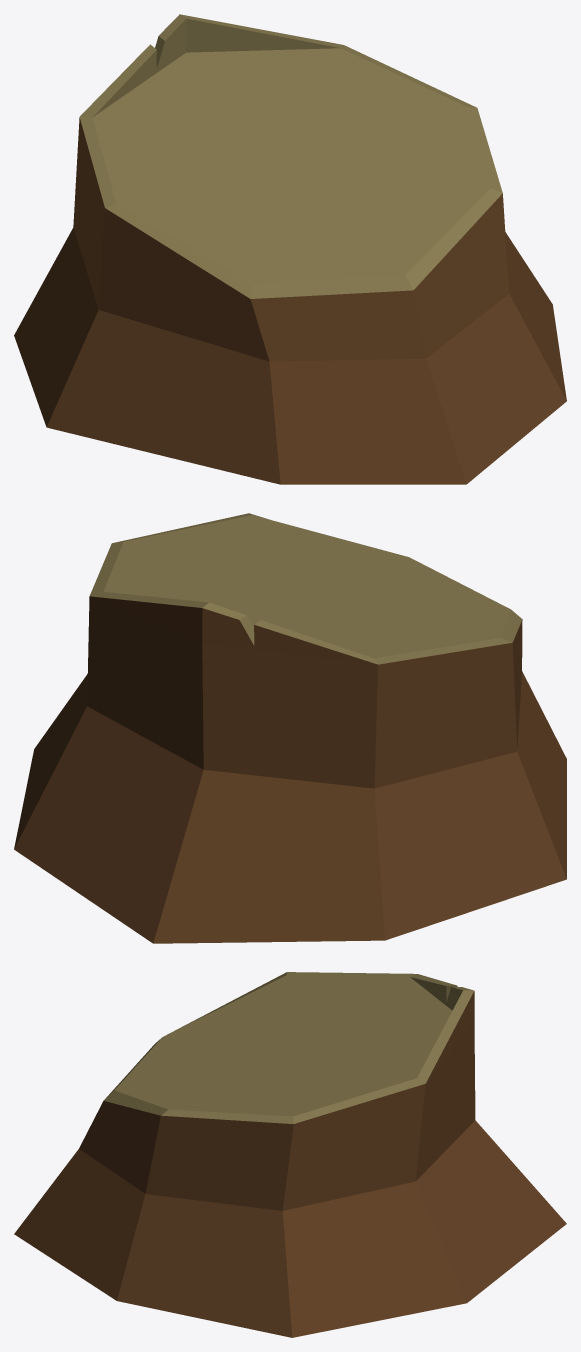
File: Stump.fbx
3 views of the same model, one above another, from view 1: azimuth 30°, elevation 25°; view 2: azimuth 150°, elevation 25°; view 3: azimuth 270°, elevation 25° (orthographic). The views are drawn at different scales.
Visible parts, largest first — view 1: Cylinder; view 2: Cylinder; view 3: Cylinder.
Boxes of the visible parts, x1,y1,x2,y2 form: Cylinder: [14, 14, 566, 484]; Cylinder: [14, 513, 566, 943]; Cylinder: [14, 972, 566, 1337].
Bounding box in the file's own units: 299 × 269 × 141.
